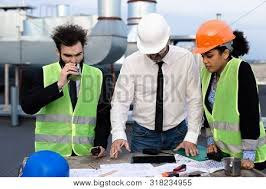Person_wearing_helmet: (191, 19, 245, 57)
